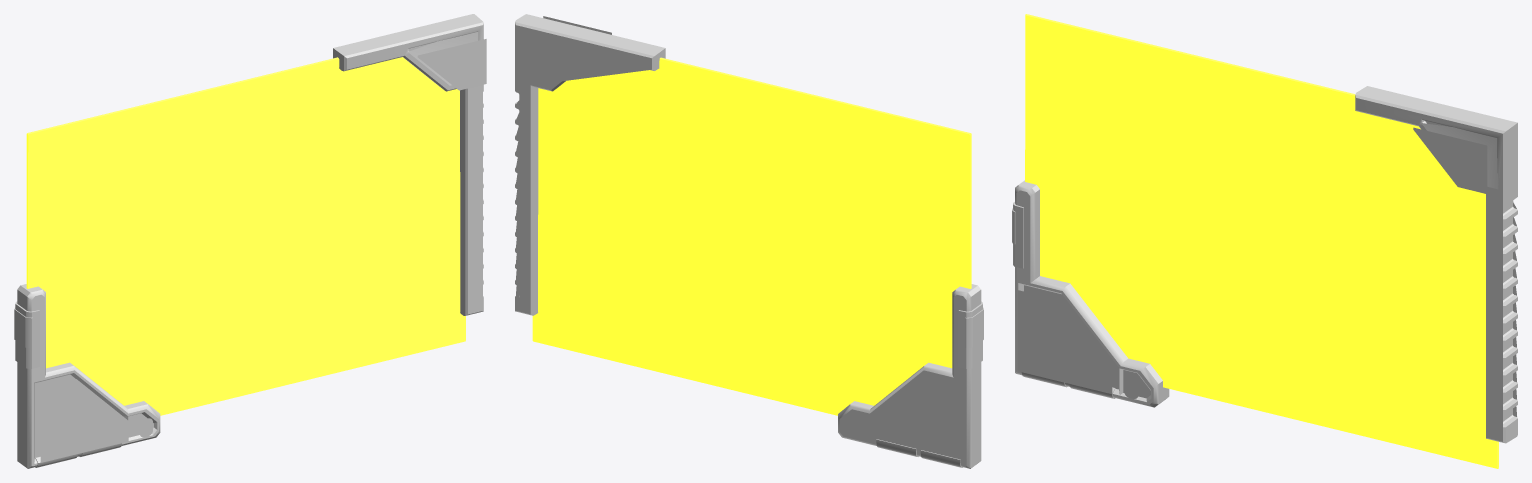
File: datapad.fbx
3 views of the same model, side by side, from view 1: azimuth 30°, elevation 25°; view 2: azimuth 150°, elevation 25°; view 3: azimuth 330°, elevation 25° (orthographic). The views are drawn at different scales.
Parts seen in each view (by area): view 1: Screen._LP, Grip_LowPoly_New, Bottom_Interface._LP, Right_Interface_Connection_Secure.001; view 2: Screen._LP, Grip_LowPoly_New; view 3: Screen._LP, Grip_LowPoly_New, Bottom_Interface._LP, Right_Interface_Connection_Secure.001.
Boxes of the visible parts, x1,y1,x2,y2 form: Screen._LP: (26, 57, 465, 415); Grip_LowPoly_New: (14, 14, 483, 468); Bottom_Interface._LP: (40, 379, 128, 462); Right_Interface_Connection_Secure.001: (417, 39, 486, 90); Screen._LP: (532, 57, 971, 415); Grip_LowPoly_New: (515, 14, 983, 468); Screen._LP: (1025, 14, 1498, 468); Grip_LowPoly_New: (1012, 86, 1517, 443); Bottom_Interface._LP: (1017, 290, 1112, 393); Right_Interface_Connection_Secure.001: (1413, 127, 1487, 193).
Size of the model in its own units: 209 by 147 by 18.62.
